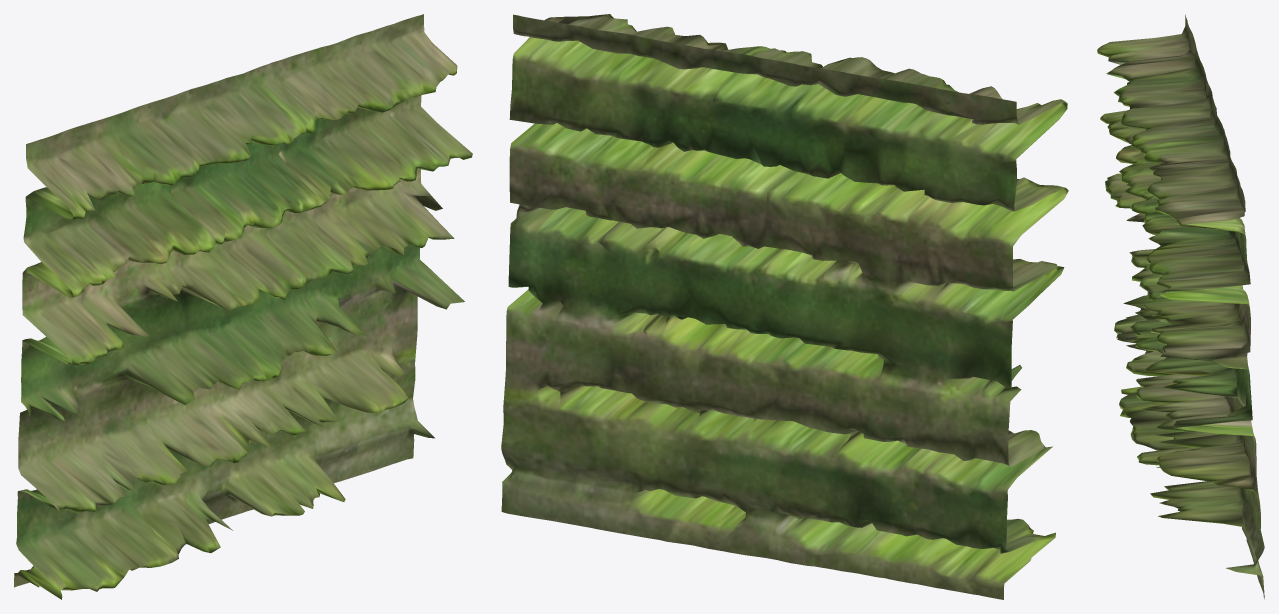
Rendered from map_180_40.obj.
3 renders of one model, left to right at view 1: azimuth 30°, elevation 25°; view 2: azimuth 150°, elevation 25°; view 3: azimuth 270°, elevation 25°, orthographic. The views are drawn at different scales.
Bounding box in the file's own units: 10 × 10 × 3.8.
1 material, 1 textured.
